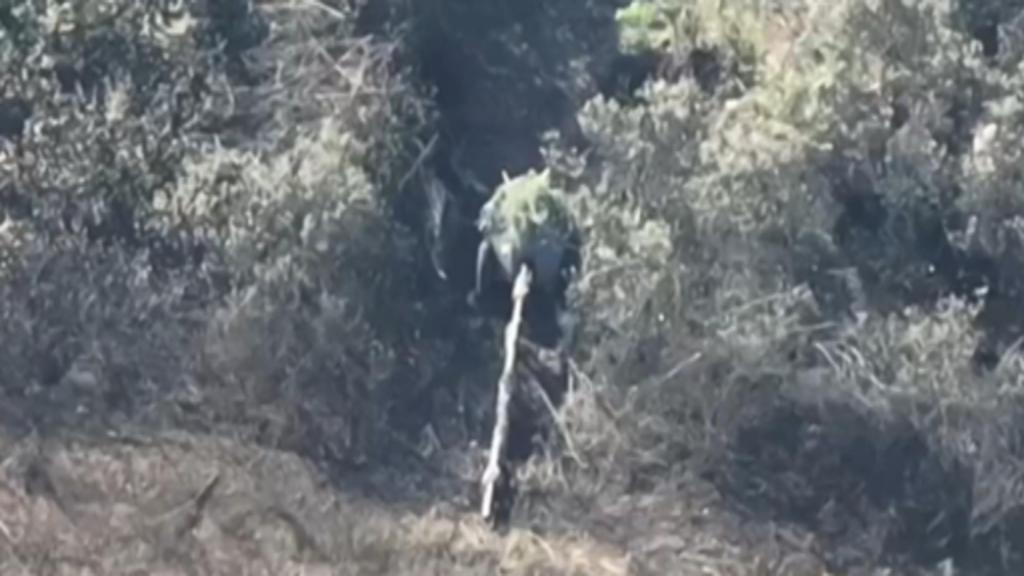ART: (454, 162, 586, 520)
